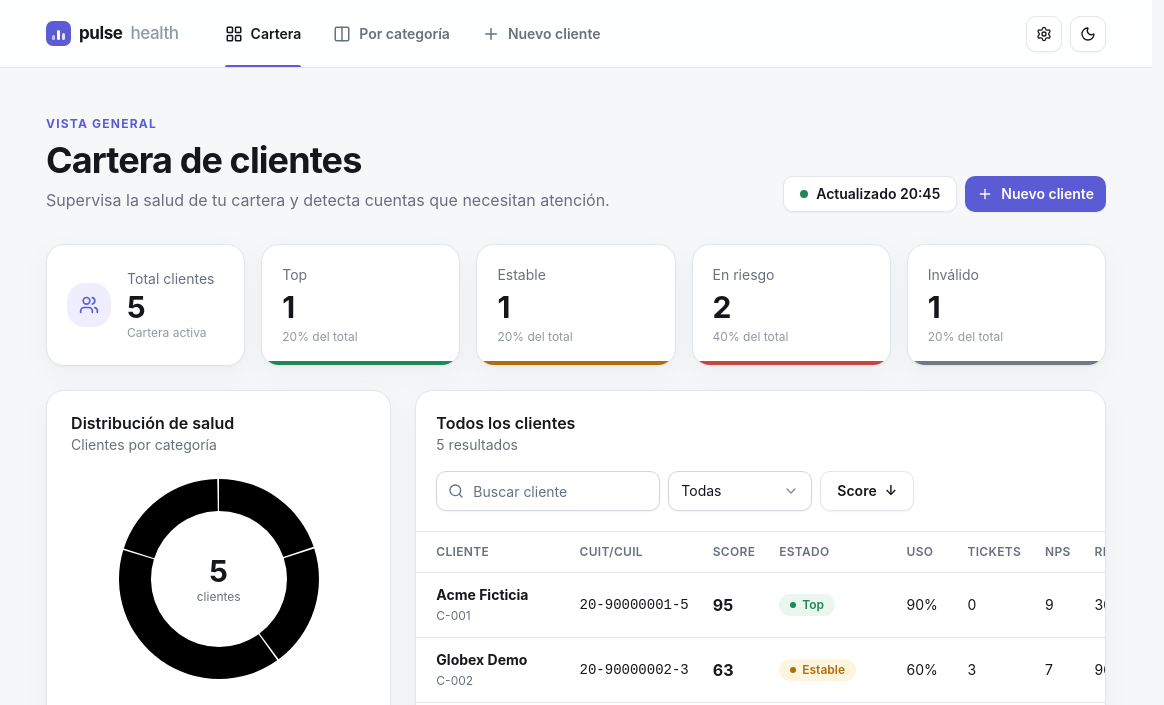
Test: Acceso a Nuevo cliente (US5, spec 004) › abre el formulario de alta vacío
Expected: the heading "Cartera de clientes" is shown, top-left (46, 138), bottom-right (361, 182)
Click the link "Nuevo cliente" in the row of "Cartera de clientes". click: x=1036, y=194
box: top-left (965, 176), bottom-right (1106, 212)
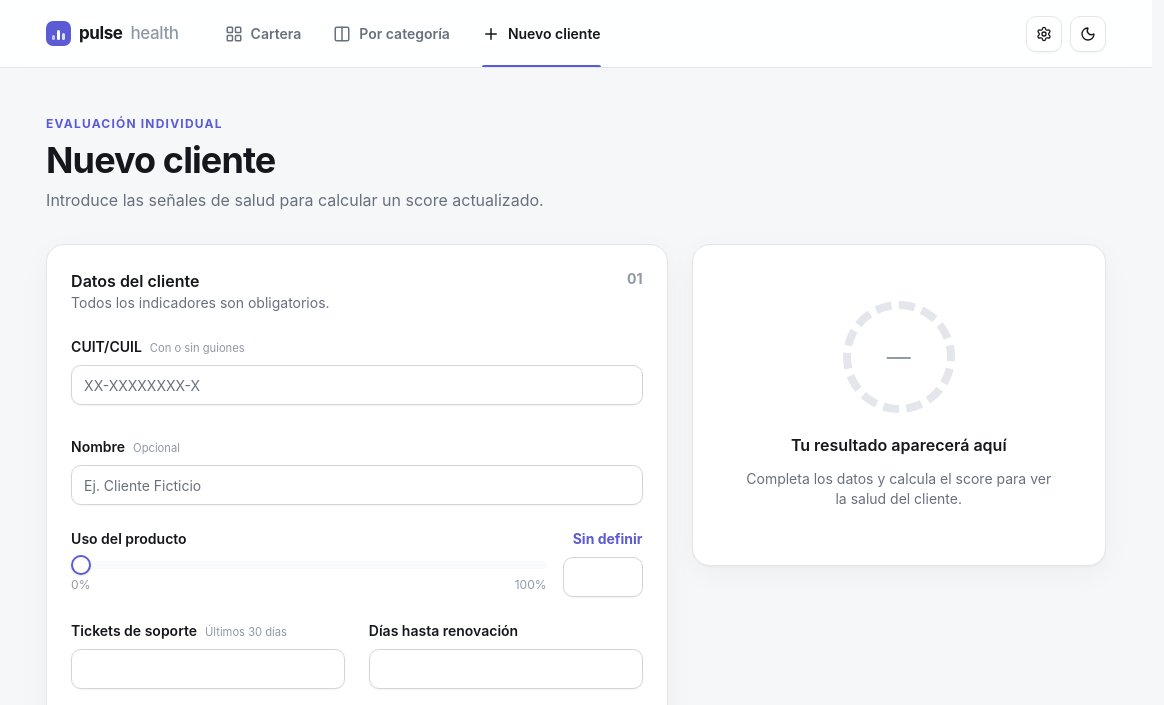
Expected: the heading "Datos del cliente" is shown, top-left (71, 271), bottom-right (200, 291)
Expected: the field labelled "CUIT/CUIL" is empty, top-left (71, 365), bottom-right (643, 405)
